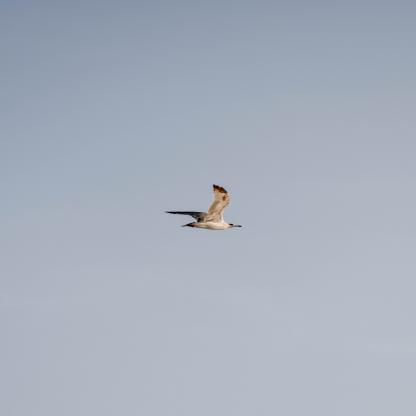bird: (165, 184, 243, 231)
